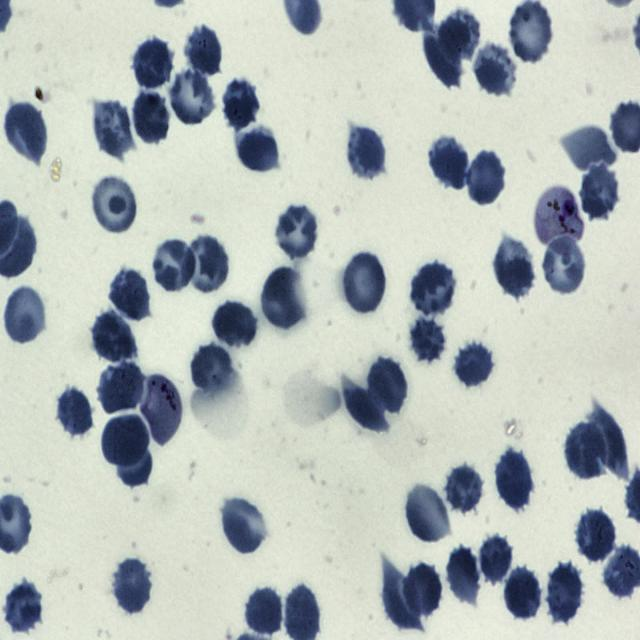red blood cell: (586, 401, 629, 480), (382, 555, 423, 631), (90, 172, 138, 236), (342, 249, 387, 316), (260, 267, 306, 331), (404, 482, 451, 544), (168, 67, 217, 126), (560, 124, 616, 175), (184, 234, 230, 295), (542, 234, 586, 296), (190, 342, 237, 400), (409, 260, 457, 316), (220, 496, 266, 554), (274, 204, 320, 262), (510, 0, 552, 63), (3, 285, 47, 345), (342, 376, 388, 433), (115, 422, 154, 489), (4, 102, 48, 161), (152, 237, 197, 294), (422, 27, 464, 88), (102, 413, 149, 467), (98, 359, 144, 414), (90, 310, 136, 364), (437, 8, 480, 65), (495, 450, 534, 511), (494, 238, 534, 297), (94, 98, 134, 157), (564, 422, 606, 478), (546, 564, 584, 624), (132, 37, 174, 91), (446, 546, 483, 607), (212, 300, 258, 349), (236, 124, 280, 175), (474, 41, 516, 94), (3, 579, 44, 633), (367, 358, 408, 412), (56, 383, 94, 441), (346, 125, 386, 180), (577, 508, 617, 563), (130, 90, 169, 146), (429, 135, 470, 188), (112, 559, 152, 613), (580, 165, 620, 219), (468, 150, 506, 206), (110, 268, 150, 321), (442, 463, 481, 517), (504, 567, 542, 621), (184, 26, 223, 77), (408, 314, 447, 364), (406, 562, 442, 616), (246, 586, 284, 637), (222, 78, 258, 129), (456, 338, 494, 386), (480, 533, 514, 585)
ring: (141, 374, 183, 447)
trophozoite: (534, 187, 583, 254)
